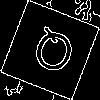Q: (25, 24, 80, 84)
